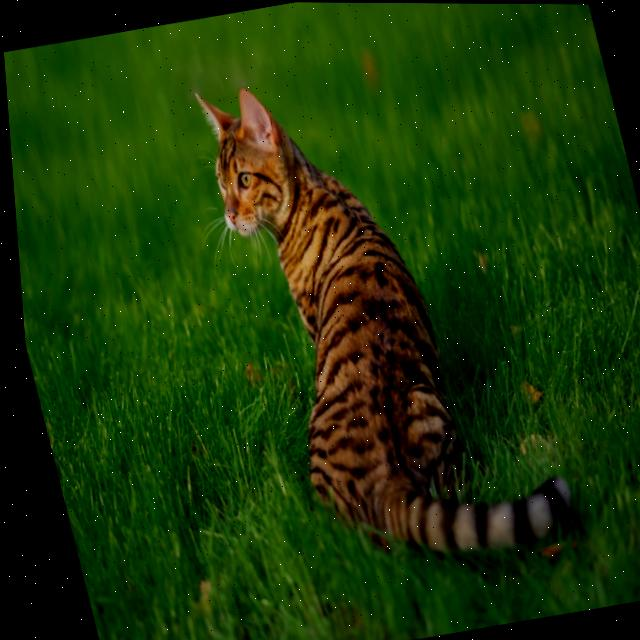Toyger: (185, 40, 578, 587)
